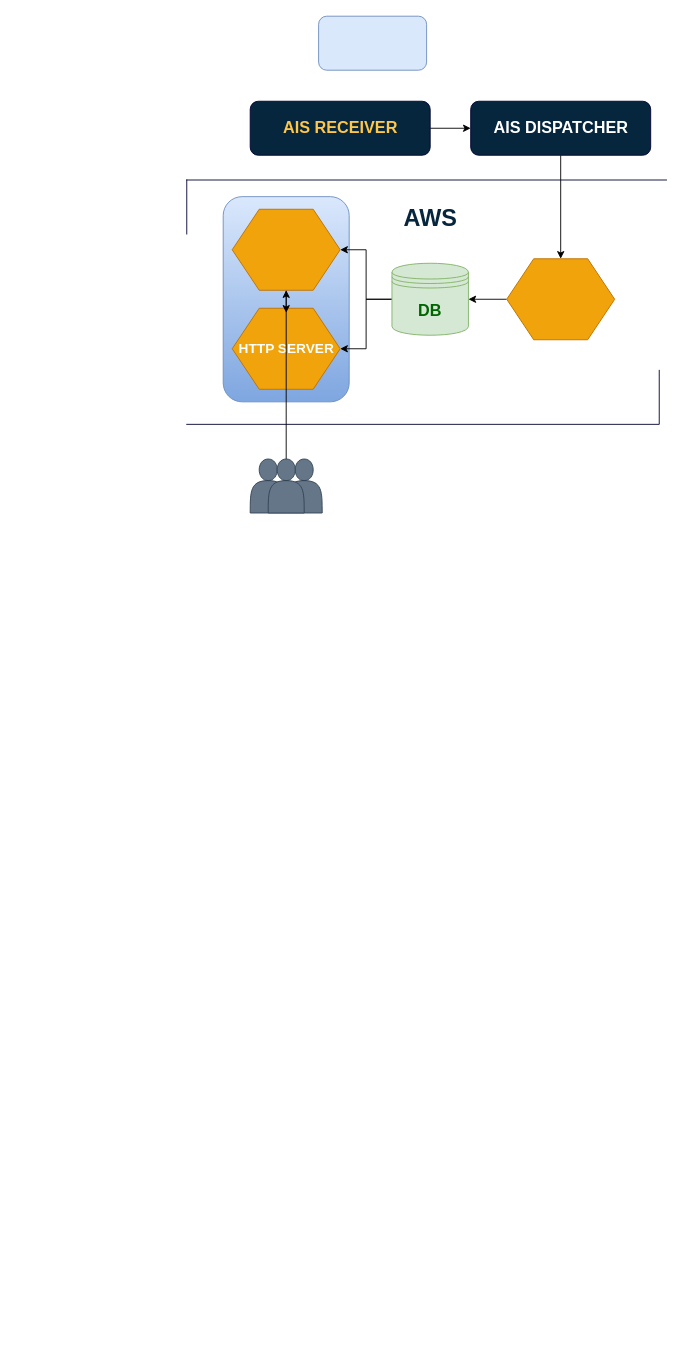
This 682x1358 diagram has some shape labels left out. Each missing label, with the box of its shape:
C DECODER: (506, 258, 615, 340)
WEBSOCKET: (231, 208, 340, 290)
